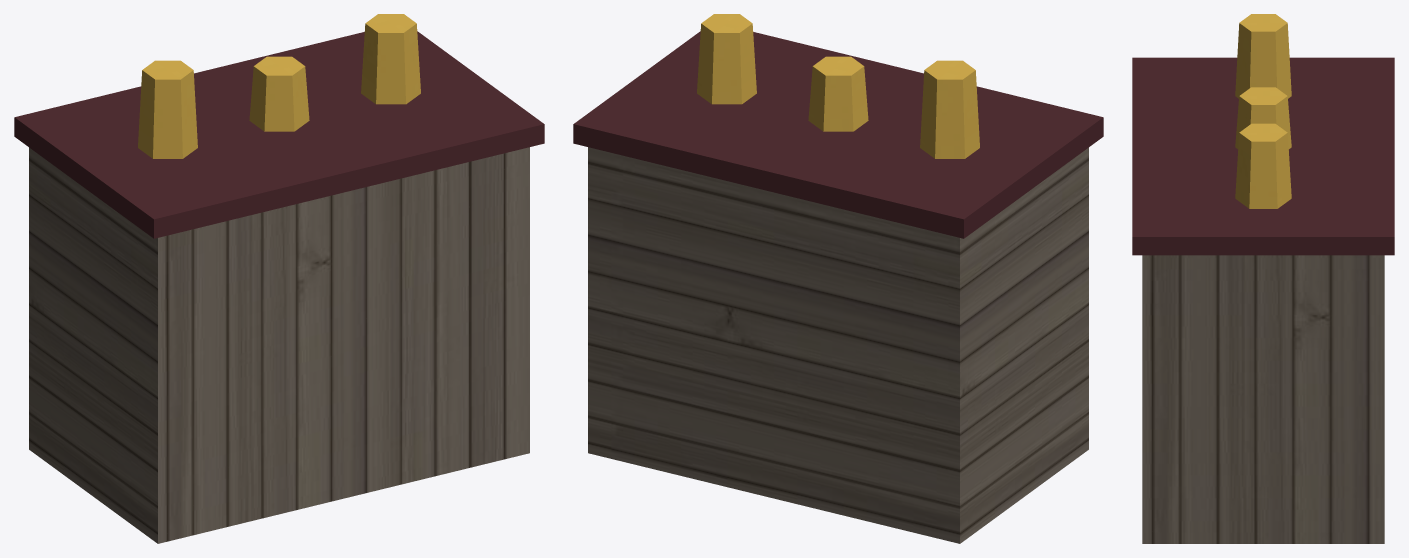
File: display_stand_01.glb
3 renders of one model, left to right at view 1: azimuth 30°, elevation 25°; view 2: azimuth 150°, elevation 25°; view 3: azimuth 270°, elevation 25°, orthographic. The views are drawn at different scales.
Parts seen in each view (by area): view 1: display_stand_01; view 2: display_stand_01; view 3: display_stand_01.
Part boxes in pixels (left/top/right/bottom): display_stand_01: left=14, top=14, right=544, bottom=543; display_stand_01: left=573, top=14, right=1103, bottom=543; display_stand_01: left=1132, top=14, right=1394, bottom=543.
Bounding box in the file's own units: 1.05 × 1.05 × 0.65.
3 materials, 3 textured.
